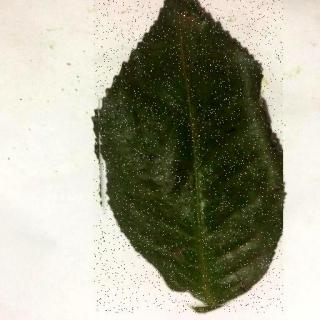Red Leaf Spot: (94, 1, 284, 313)
